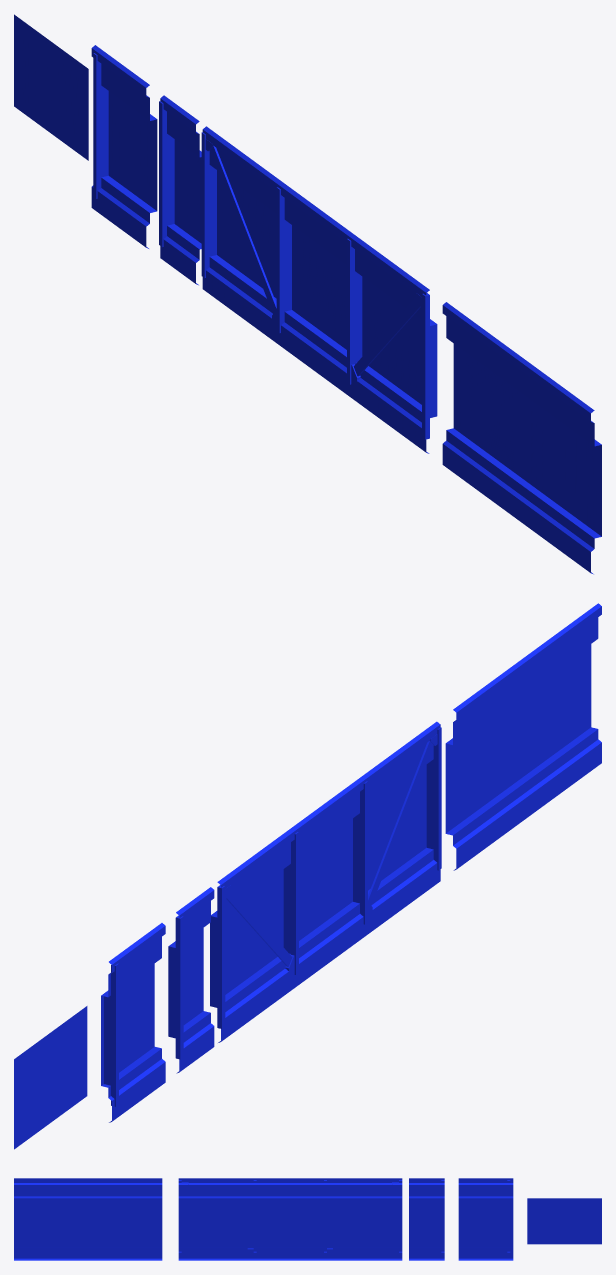
File: UnderFloor_parts_02.FBX
3 views of the same model, one above another, from view 1: azimuth 30°, elevation 25°; view 2: azimuth 150°, elevation 25°; view 3: azimuth 270°, elevation 25° (orthographic). The views are drawn at different scales.
Visible parts, largest first — view 1: xsgxg; view 2: xsgxg; view 3: xsgxg.
Boxes of the visible parts, x1=… form: xsgxg: x1=14, y1=14, x2=601, y2=574; xsgxg: x1=14, y1=603, x2=601, y2=1149; xsgxg: x1=14, y1=1178, x2=601, y2=1260.
Size of the model in its own units: 4.61 by 383 by 59.05.
